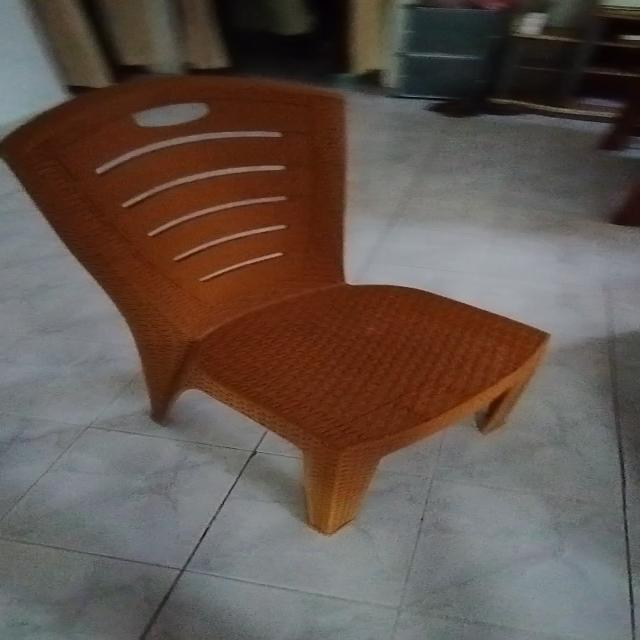chair: (0, 56, 640, 566)
